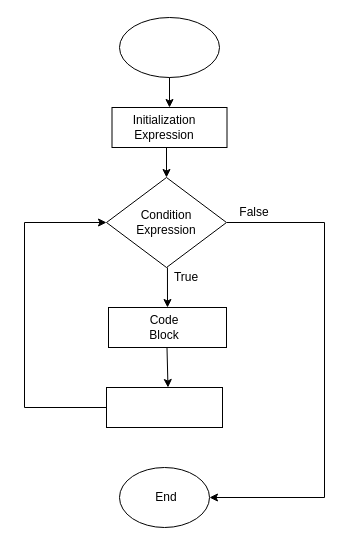
This 350x545 diagram has some shape labels left out. The box of each missing label's shape, as (x1, y1, x2, y2) in pixels:
Start: (118, 16, 220, 78)
Updation Expression: (106, 386, 222, 428)
